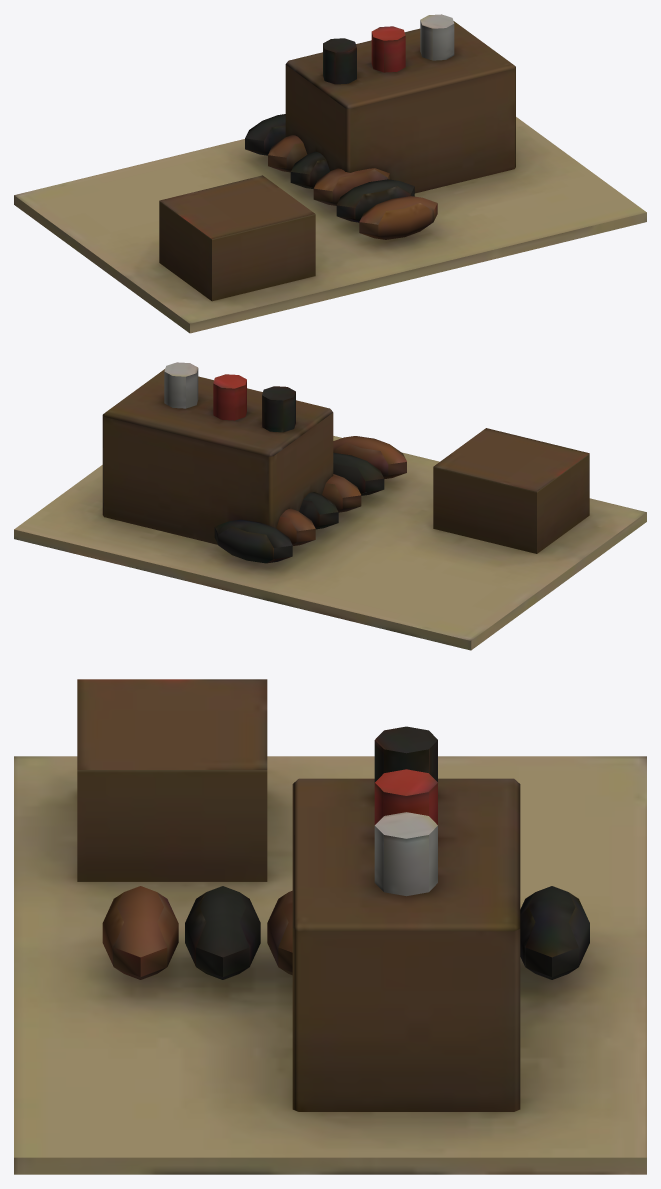
The model's file is cobbler_kit.glb.
The picture shows the model from 3 angles, top to bottom: view 1: azimuth 30°, elevation 25°; view 2: azimuth 150°, elevation 25°; view 3: azimuth 270°, elevation 25°; orthographic projection. The views are drawn at different scales.
Parts seen in each view (by area): view 1: body; view 2: body; view 3: body.
Boxes of the visible parts, bbox=[...] form: body: bbox=[14, 14, 646, 333]; body: bbox=[14, 362, 646, 650]; body: bbox=[14, 679, 646, 1174].
Bounding box in the file's own units: 1.5 × 0.455 × 1.
Materials: 1 (1 with a texture image).
